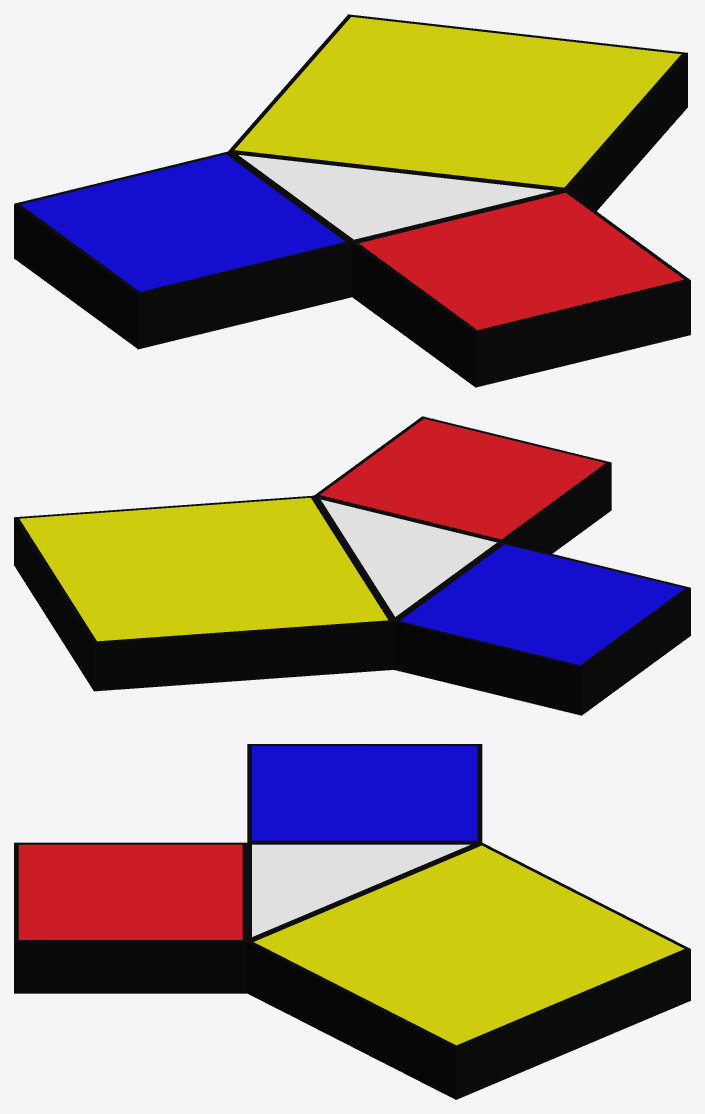
File: triangle-transformed.glb
3 renders of one model, top to bottom at view 1: azimuth 30°, elevation 25°; view 2: azimuth 150°, elevation 25°; view 3: azimuth 270°, elevation 25°, orthographic. The views are drawn at different scales.
Parts seen in each view (by area): view 1: Plane; view 2: Plane; view 3: Plane.
Part boxes in pixels (x1,y1,x2,y2): Plane: [14, 14, 690, 387]; Plane: [14, 416, 690, 715]; Plane: [14, 744, 690, 1099].
Bounding box in the file's own units: 6.13 × 0.4854 × 5.76.
1 material, 1 textured.
